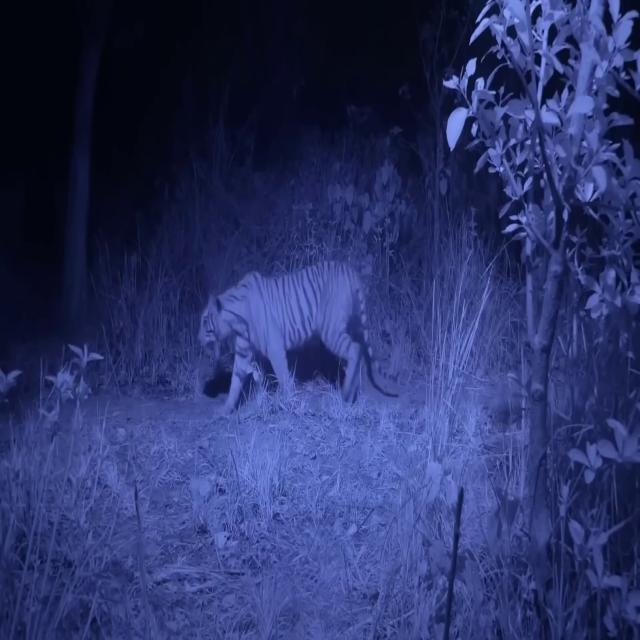tiger: (199, 260, 399, 417)
